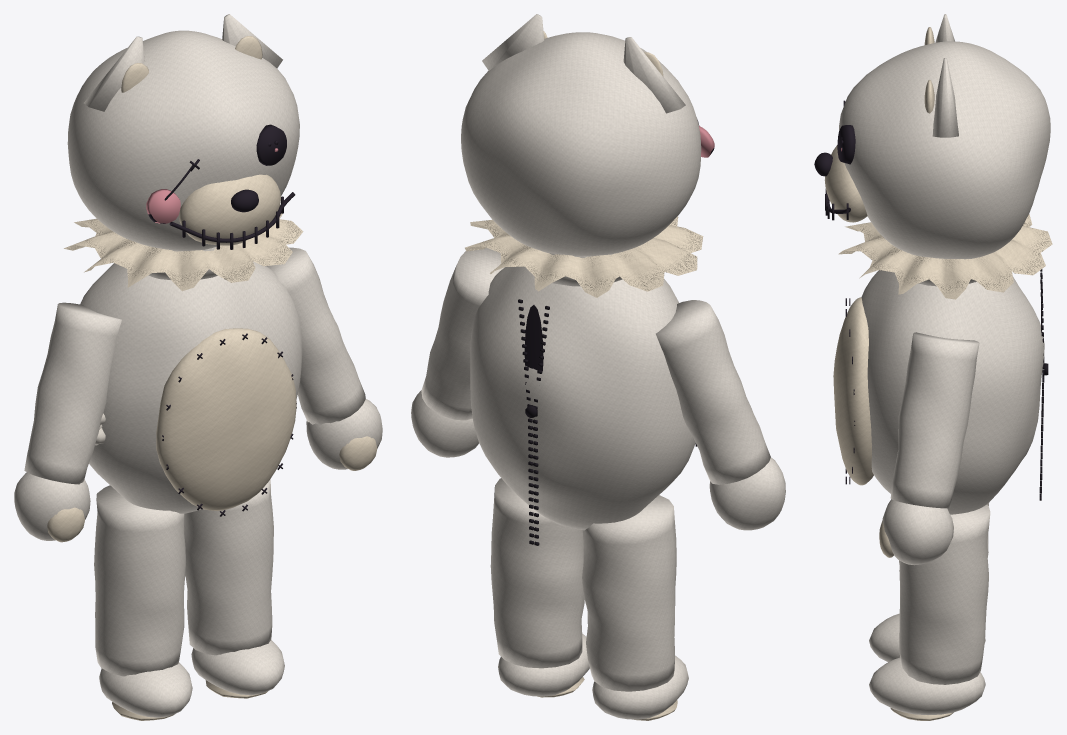
File: Doux_Chat.glb
The picture shows the model from 3 angles, left to right: view 1: azimuth 30°, elevation 25°; view 2: azimuth 150°, elevation 25°; view 3: azimuth 270°, elevation 25°; orthographic projection. The views are drawn at different scales.
Parts seen in each view (by area): view 1: Corps, Tete_Fourrure, Corps_Creme, Col, Tete_Creme, Tete_Details; view 2: Corps, Tete_Fourrure, Col, Fermeture, Fermeture_Trou; view 3: Corps, Tete_Fourrure, Col, Corps_Creme, Tete_Creme, Tete_Details, Fermeture.
Part boxes in pixels (box(x1,y1,x2,y2)): Corps: box(14, 247, 382, 717); Tete_Fourrure: box(67, 14, 299, 251); Corps_Creme: box(47, 328, 377, 720); Col: box(64, 213, 303, 291); Tete_Creme: box(121, 36, 280, 245); Tete_Details: box(146, 124, 295, 249); Corps: box(411, 247, 785, 719); Tete_Fourrure: box(461, 14, 701, 256); Col: box(465, 216, 703, 297); Fermeture: box(518, 299, 549, 545); Fermeture_Trou: box(524, 305, 543, 371); Corps: box(861, 270, 1044, 714); Tete_Fourrure: box(839, 14, 1050, 259); Col: box(838, 214, 1052, 299); Corps_Creme: box(833, 297, 953, 720); Tete_Creme: box(824, 27, 934, 222); Tete_Details: box(814, 100, 855, 220); Fermeture: box(1039, 269, 1048, 500).
Size of the model in its own units: 1.17 by 2.06 by 0.6852.
Materials: 6 (3 with a texture image).
